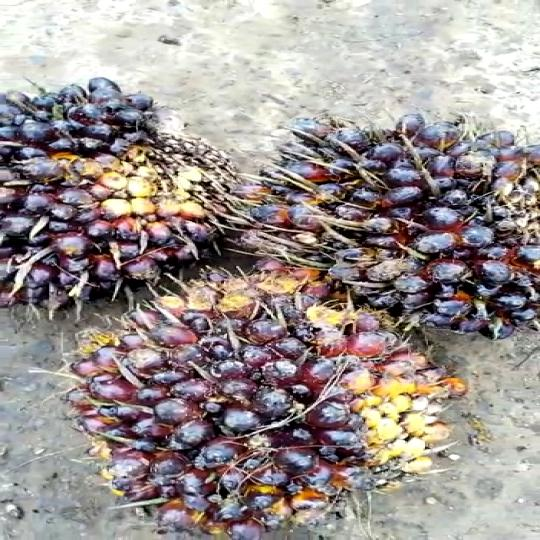mentah: (62, 261, 458, 540), (250, 97, 540, 353), (1, 72, 264, 308)
